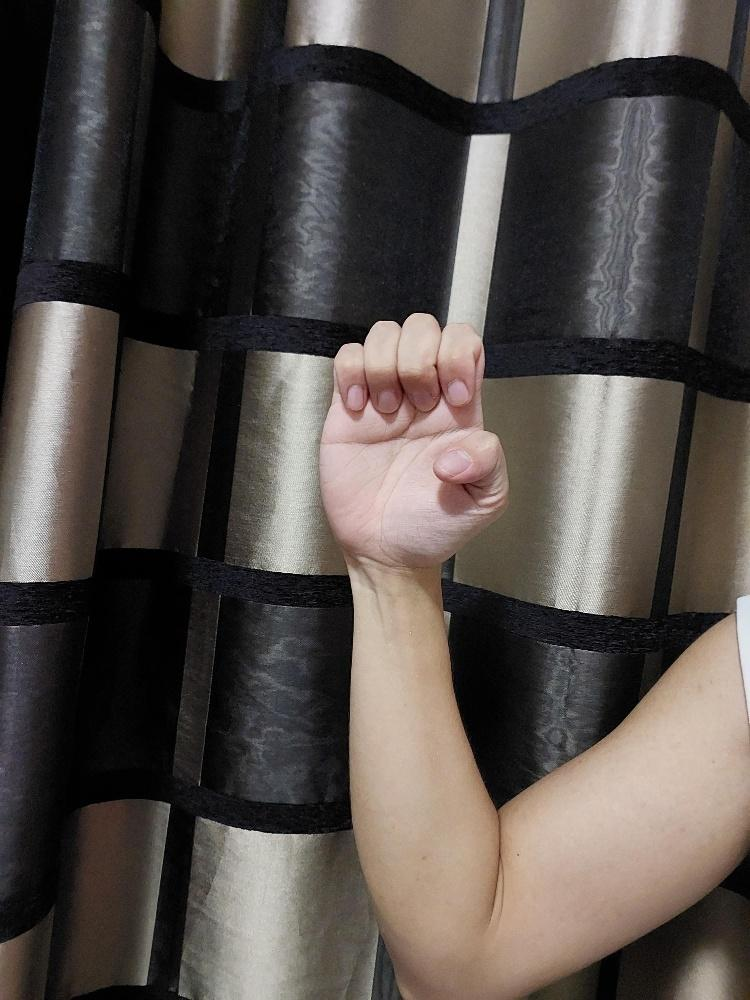e: (317, 310, 511, 575)
